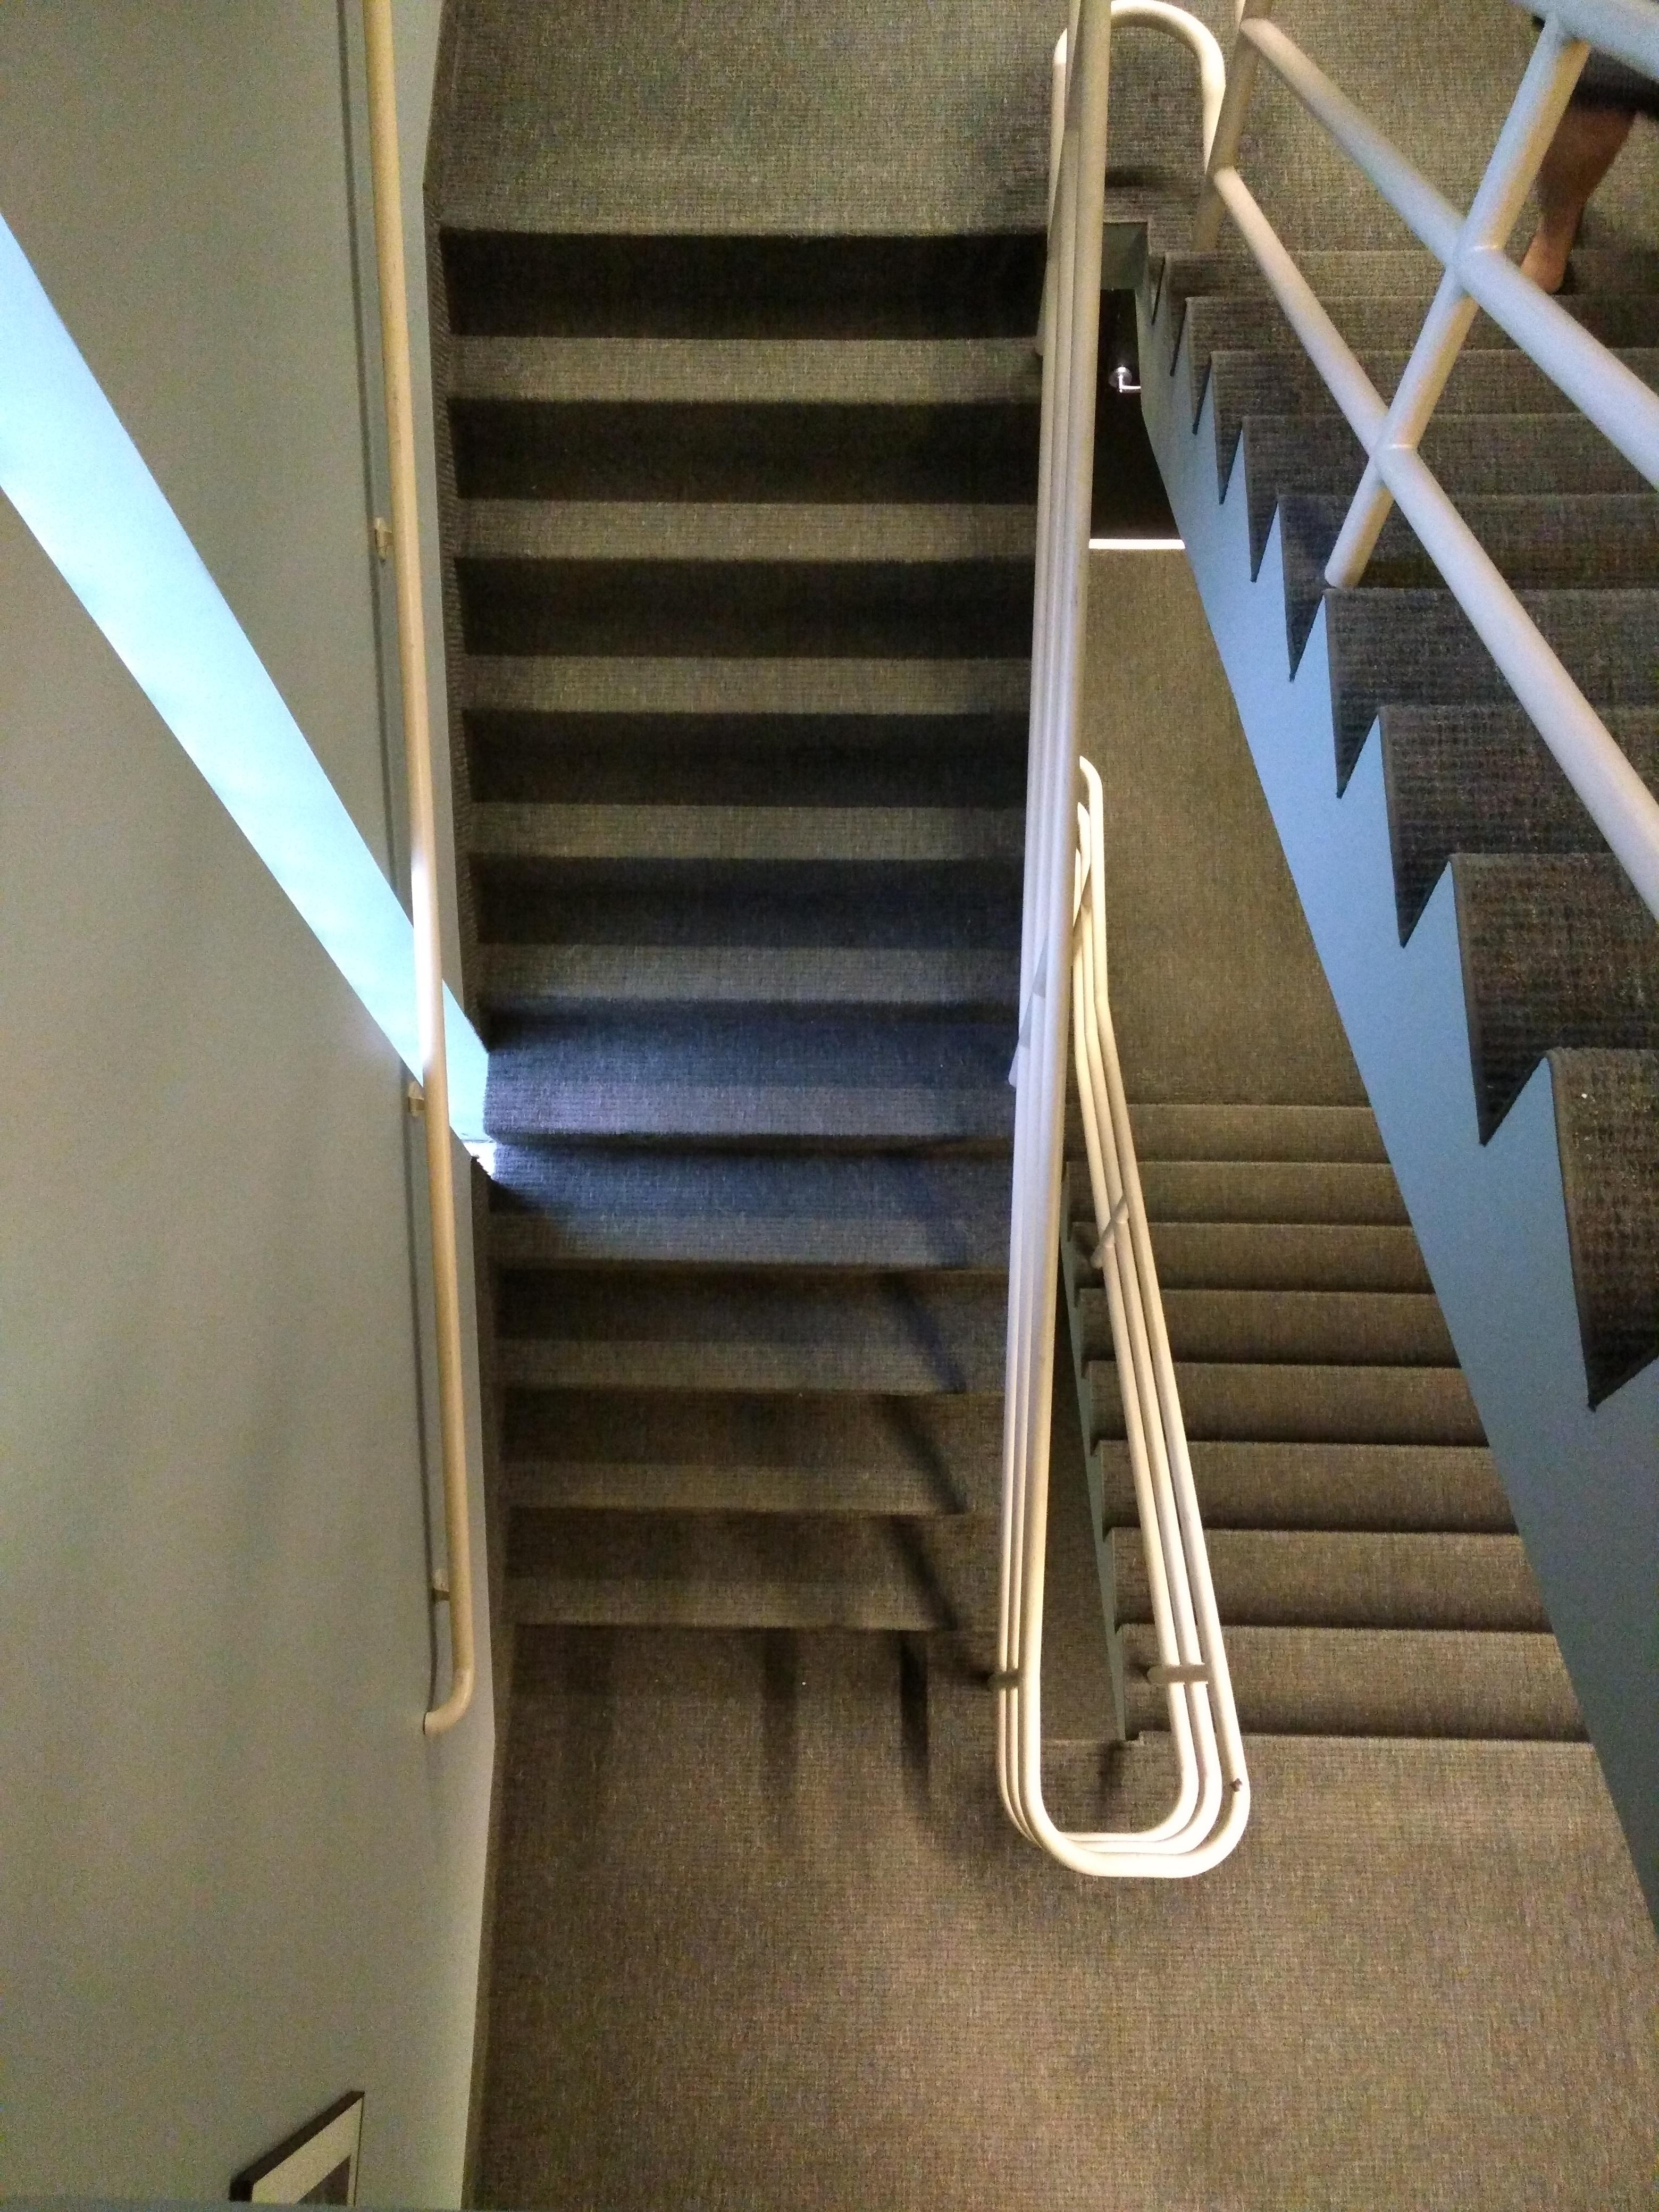stairs_down: (1098, 1054, 1419, 1777)
stairs_up: (444, 199, 1028, 1714)
